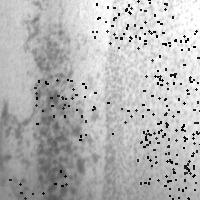pitted_surface: (102, 1, 199, 200), (2, 1, 95, 199), (34, 79, 94, 139), (137, 129, 193, 188), (143, 30, 197, 90), (144, 124, 199, 182), (107, 95, 165, 142), (157, 76, 200, 133), (92, 0, 144, 47), (126, 0, 182, 40), (8, 170, 65, 200), (165, 167, 200, 200)
